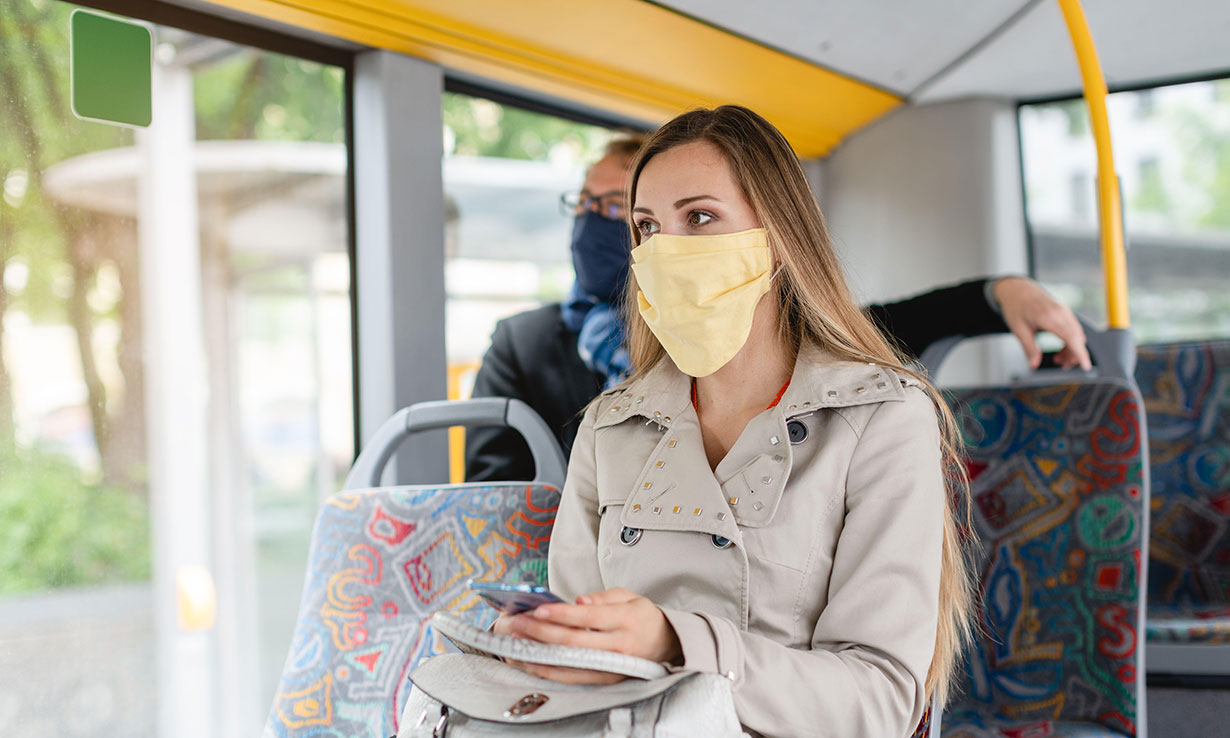with_mask: (631, 182, 746, 337)
